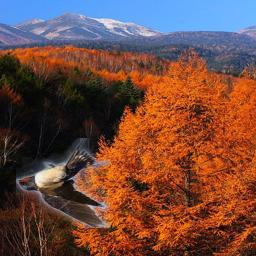Swallow: (16, 138, 111, 228)
